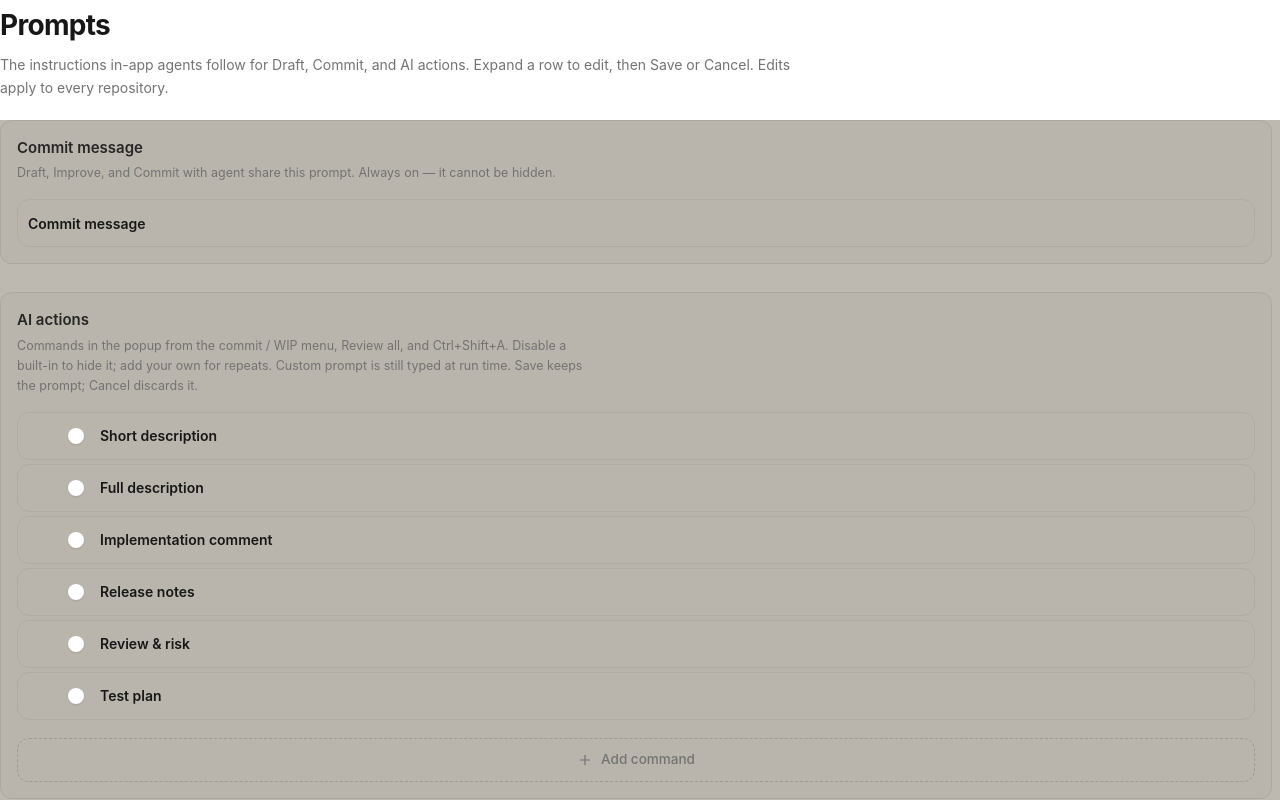
AgentPromptsSettings › asks before resetting, then only fills the editor until Save
Click the button "Commit message" at point(87, 223), box [22, 205, 1206, 241]
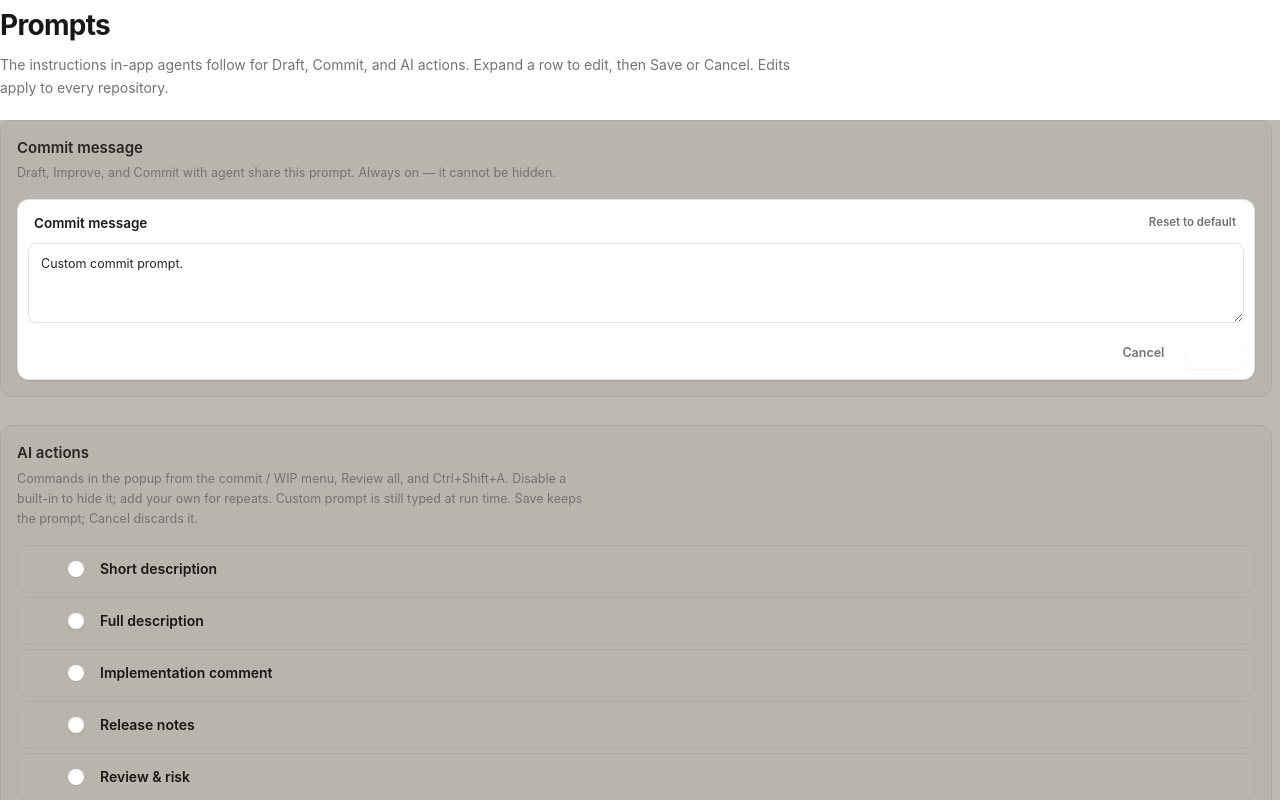
Click the button with aria-label "Reset Commit message" at point(1192, 223), box [1141, 210, 1244, 235]
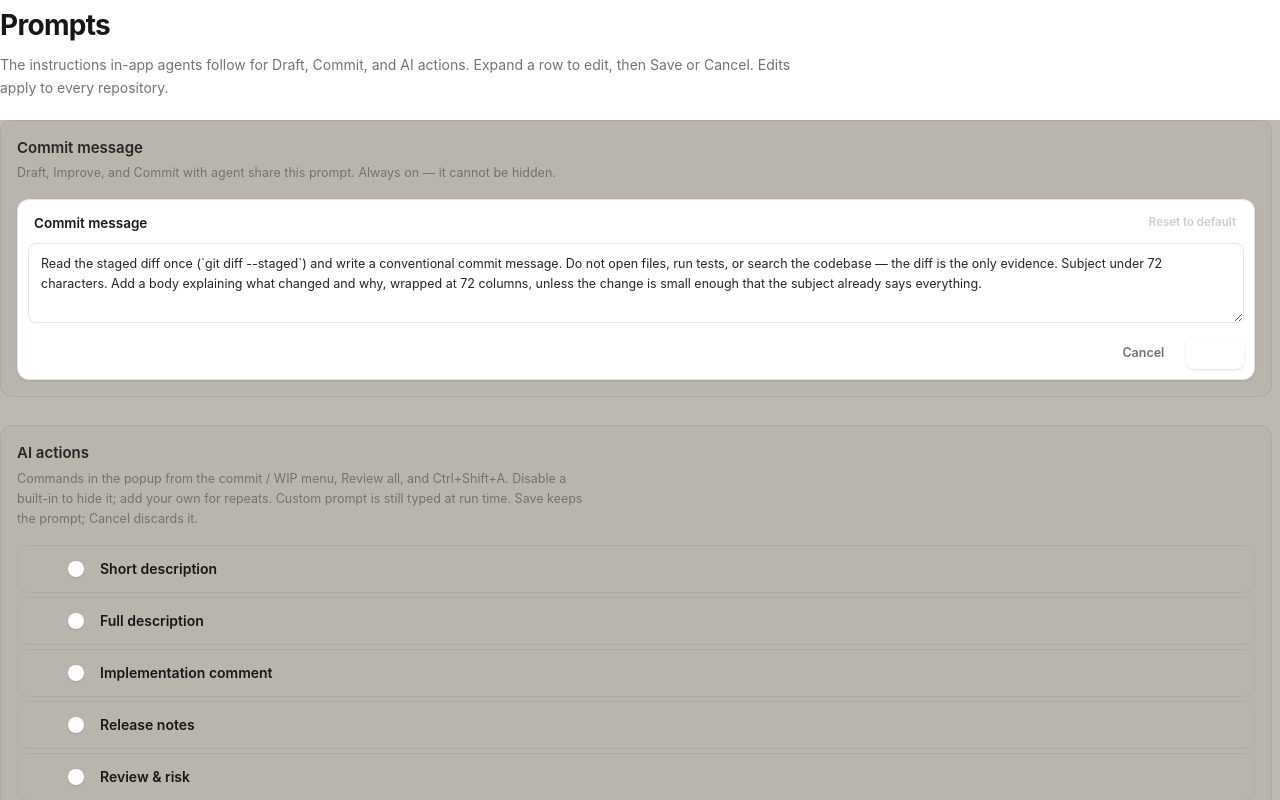
Result: the text box named "Prompt for Commit message" holds "Read the staged diff once (`git diff --staged`) and write a conventional commit message. Do not open files, run tests, or search the codebase — the diff is the " at [28, 243, 1244, 323]
